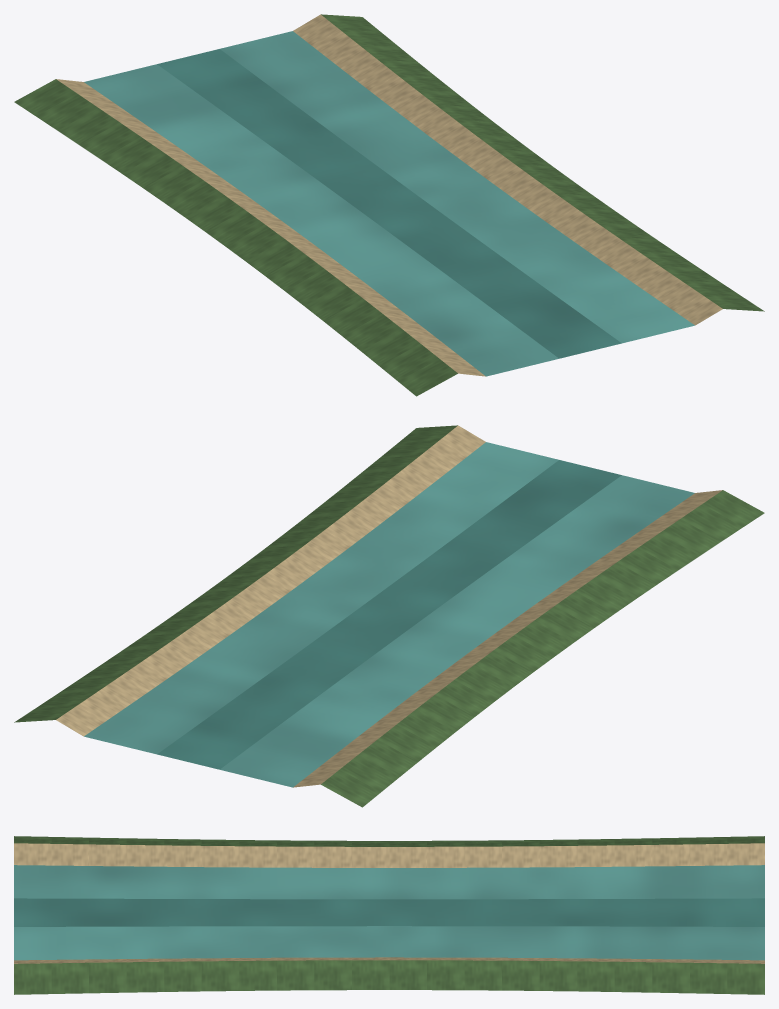
File: river_straight_20.fbx
3 views of the same model, one above another, from view 1: azimuth 30°, elevation 25°; view 2: azimuth 150°, elevation 25°; view 3: azimuth 270°, elevation 25° (orthographic). The views are drawn at different scales.
Visible parts, largest first — view 1: river_straight_20; view 2: river_straight_20; view 3: river_straight_20.
Boxes of the visible parts, x1,y1,x2,y2 form: river_straight_20: (14, 14, 764, 396); river_straight_20: (14, 425, 764, 807); river_straight_20: (14, 836, 764, 994).
Bounding box in the file's own units: 1000 × 35 × 2000.
2 materials, 2 textured.
